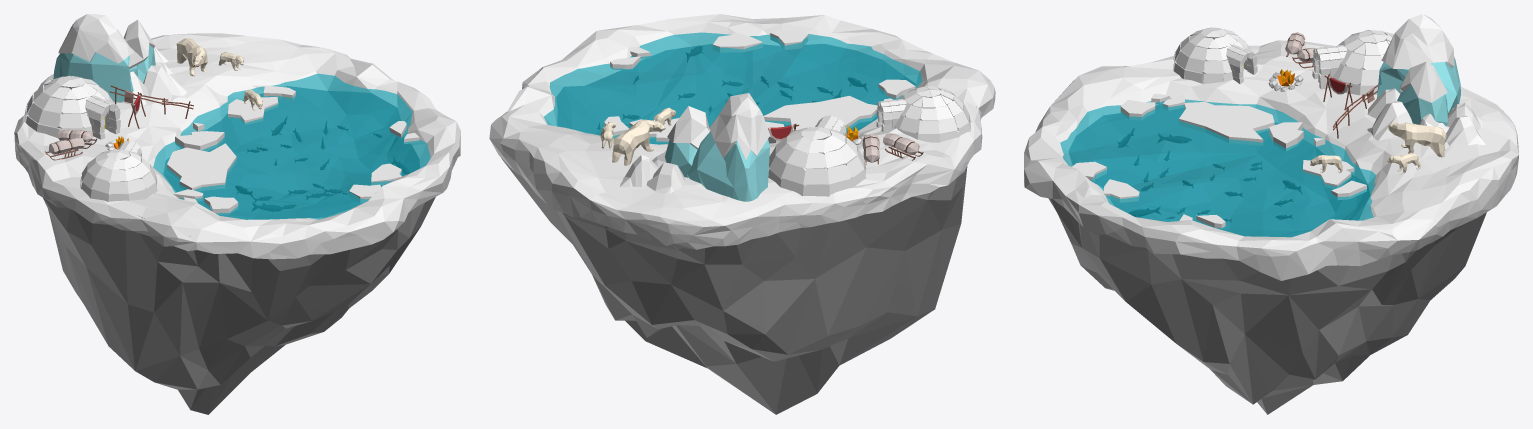
File: land_51.fbx
The picture shows the model from 3 angles, left to right: view 1: azimuth 30°, elevation 25°; view 2: azimuth 150°, elevation 25°; view 3: azimuth 270°, elevation 25°; orthographic projection. The views are drawn at different scales.
Visible parts, largest first — view 1: polySurface3039, land_51.091, land_51.088, land_51.072, land_51.073, land_51.095, land_51.086, land_51.098, land_51.102, land_51.096, land_51.079, land_51.093 (+3 smaller); view 2: polySurface3039, land_51.091, land_51.088, land_51.072, land_51.073, land_51.095, land_51.071, land_51.102, land_51.105, land_51.079, land_51.104, land_51.093 (+1 smaller); view 3: polySurface3039, land_51.091, land_51.088, land_51.073, land_51.072, land_51.095, land_51.071, land_51.086, land_51.102, land_51.098, land_51.096, land_51.105 (+3 smaller).
Boxes of the visible parts, x1=… form: polySurface3039: x1=14, y1=33, x2=460, y2=414; land_51.091: x1=153, y1=73, x2=430, y2=219; land_51.088: x1=53, y1=14, x2=155, y2=102; land_51.072: x1=24, y1=75, x2=120, y2=139; land_51.073: x1=80, y1=140, x2=157, y2=201; land_51.095: x1=167, y1=143, x2=236, y2=191; land_51.086: x1=122, y1=65, x2=186, y2=105; land_51.098: x1=228, y1=97, x2=278, y2=124; land_51.102: x1=176, y1=38, x2=207, y2=76; land_51.096: x1=175, y1=131, x2=224, y2=150; land_51.079: x1=45, y1=138, x2=84, y2=160; land_51.093: x1=204, y1=196, x2=238, y2=214; polySurface3039: x1=489, y1=14, x2=995, y2=414; land_51.091: x1=544, y1=32, x2=922, y2=144; land_51.088: x1=665, y1=93, x2=770, y2=201; land_51.072: x1=768, y1=115, x2=866, y2=196; land_51.073: x1=876, y1=86, x2=970, y2=142; land_51.095: x1=763, y1=95, x2=877, y2=131; land_51.071: x1=620, y1=150, x2=684, y2=194; land_51.102: x1=612, y1=119, x2=665, y2=165; land_51.105: x1=712, y1=32, x2=762, y2=52; land_51.079: x1=883, y1=133, x2=923, y2=160; land_51.104: x1=770, y1=29, x2=808, y2=49; land_51.093: x1=878, y1=79, x2=915, y2=99; polySurface3039: x1=1024, y1=40, x2=1518, y2=414; land_51.091: x1=1060, y1=98, x2=1375, y2=237; land_51.088: x1=1377, y1=14, x2=1460, y2=126; land_51.073: x1=1173, y1=27, x2=1257, y2=84; land_51.072: x1=1312, y1=30, x2=1393, y2=95; land_51.095: x1=1179, y1=102, x2=1274, y2=145; land_51.071: x1=1419, y1=102, x2=1485, y2=146; land_51.086: x1=1367, y1=88, x2=1412, y2=140; land_51.102: x1=1388, y1=122, x2=1446, y2=157; land_51.098: x1=1303, y1=160, x2=1354, y2=188; land_51.096: x1=1269, y1=122, x2=1303, y2=151; land_51.105: x1=1104, y1=179, x2=1139, y2=202.
Bounding box in the file's own units: 17.34 × 15.38 × 18.31.
